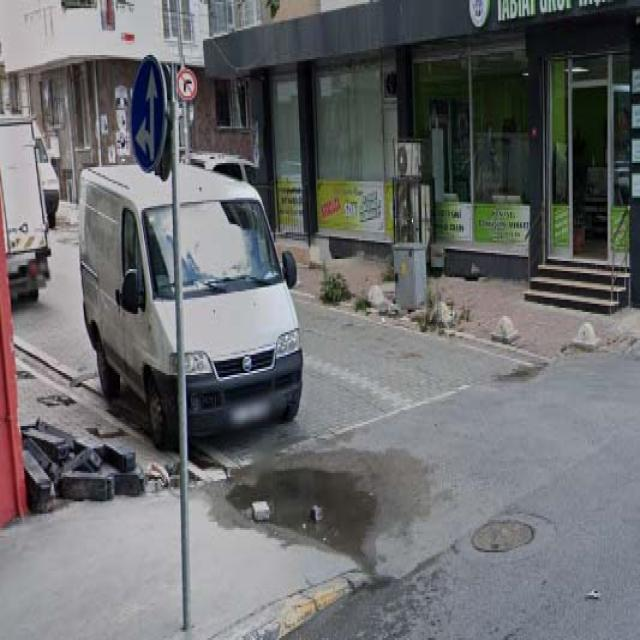ilerisol: (131, 55, 167, 175)
sagadonulmez: (176, 69, 197, 100)
